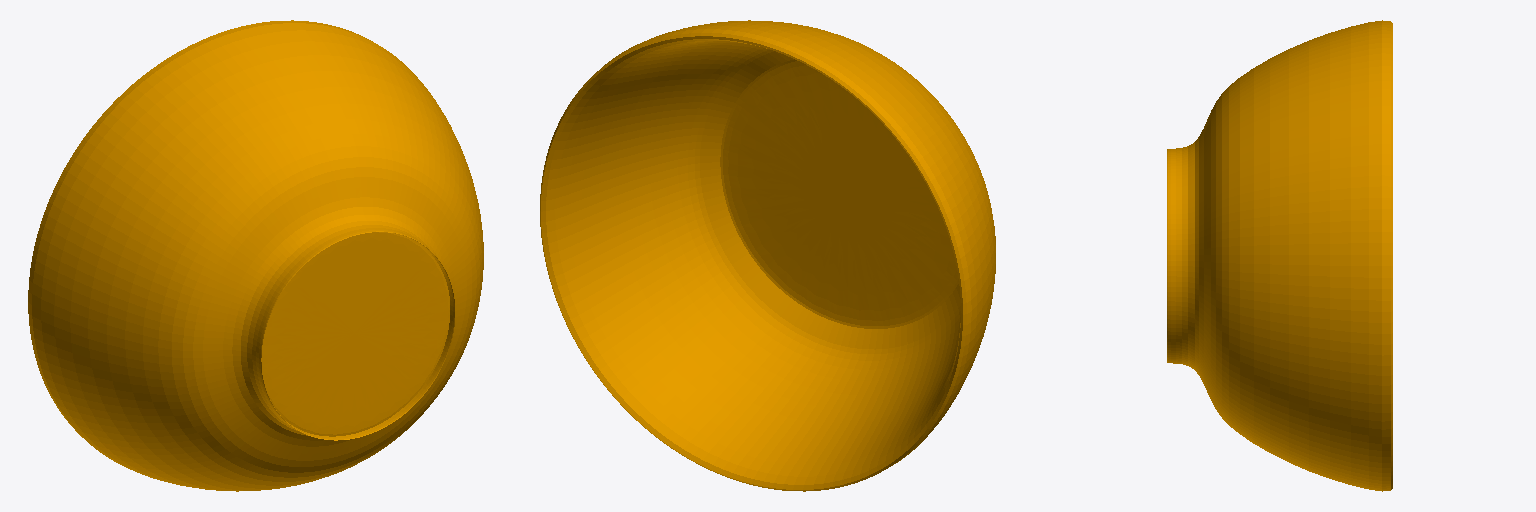
The robot description file, URDF, robot "bowl":
<?xml version="1.0" ?>
<robot name="bowl"> 
  <link name="bowl">
    <visual>
      <origin xyz="0 0 0"/>
      <geometry>
        <mesh filename="meshes/bowl_update.obj" scale="0.1 0.1 0.1"/>
      </geometry>
    </visual>
    <collision>
      <origin xyz="0 0 0"/>
      <geometry>
        <mesh filename="meshes/bowl_update.obj" scale="0.1 0.1 0.1"/>
      </geometry>
    </collision>
    <inertial>
      <mass value="0.5"/> 
      <inertia ixx="0.0001" ixy="0.0" ixz="0.0" iyy="0.0001" iyz="0.0" izz="0.0001"/>
    </inertial>
  </link>
</robot>
        

--- What the picture shows (computed from the rendered views, not written in the file) ---
The picture shows the robot from 3 angles, left to right: view 1: azimuth 30°, elevation 25°; view 2: azimuth 150°, elevation 25°; view 3: azimuth 270°, elevation 25°; orthographic projection.
Robot: bowl — 1 links, 0 joints (none); root link bowl; default pose: all joints at 0.
Visible links, largest first — view 1: bowl; view 2: bowl; view 3: bowl.
Boxes of the visible links, x1,y1,x2,y2 form: bowl: (28,20,483,491); bowl: (540,20,995,491); bowl: (1167,20,1392,491).
Size in the robot's own frame: 0.3764 by 0.181 by 0.3764 metres.
Meshes: 1 distinct files referenced, 1 mesh visuals loaded (1 OBJ).